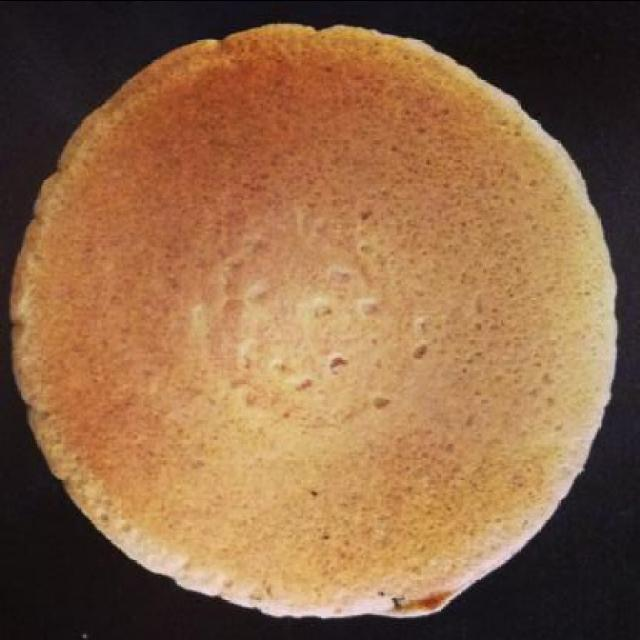Pancake: (2, 2, 580, 636)
